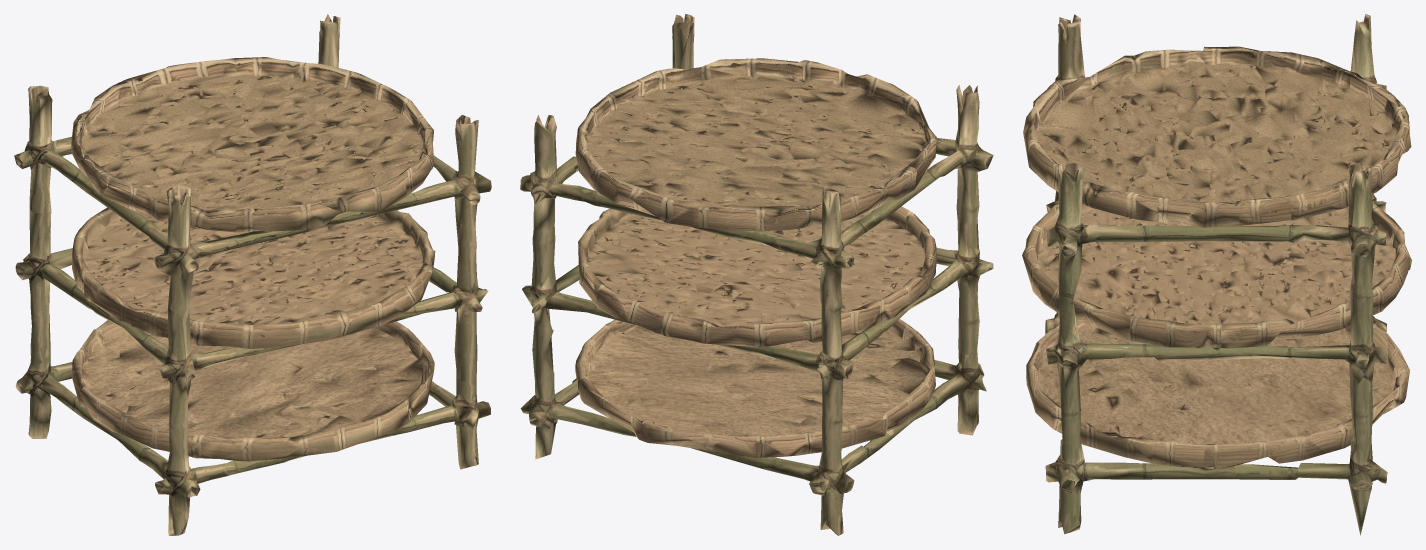
Rendered from varal.glb.
3 renders of one model, left to right at view 1: azimuth 30°, elevation 25°; view 2: azimuth 150°, elevation 25°; view 3: azimuth 270°, elevation 25°, orthographic. The views are drawn at different scales.
Parts seen in each view (by area): view 1: varal; view 2: varal; view 3: varal.
Boxes of the visible parts, x1,y1,x2,y2 form: varal: (14, 14, 491, 535); varal: (520, 14, 993, 535); varal: (1022, 14, 1411, 535).
Size of the model in its own units: 1.89 by 1.9 by 1.84.
Materials: 1 (1 with a texture image).
